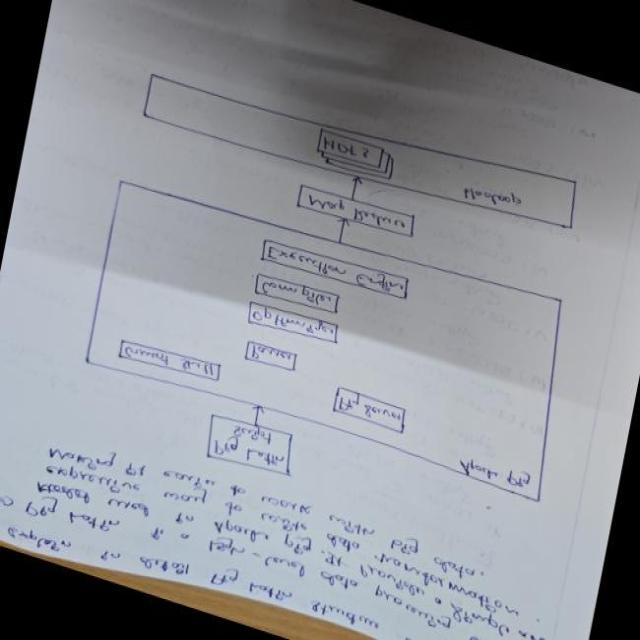Figure Detection - v3 Dataset Version2: (42, 10, 617, 585)
